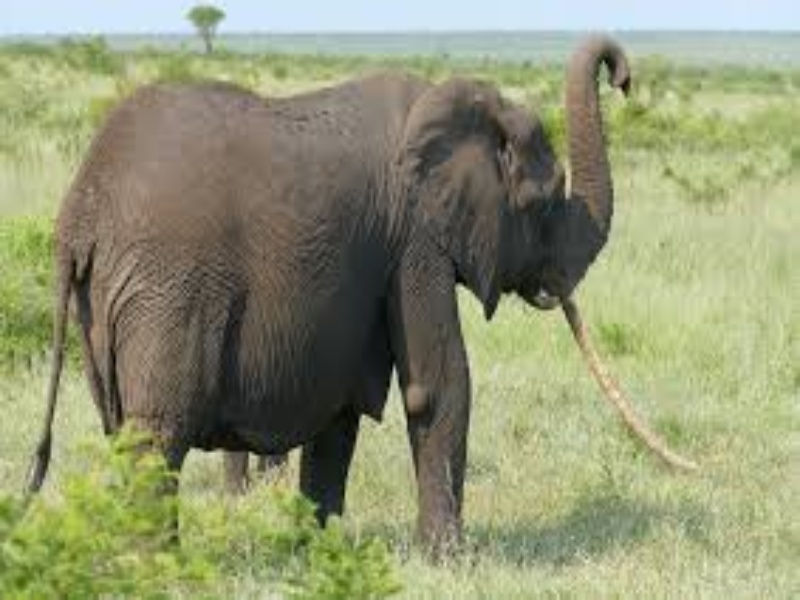elephant: (14, 12, 720, 566)
